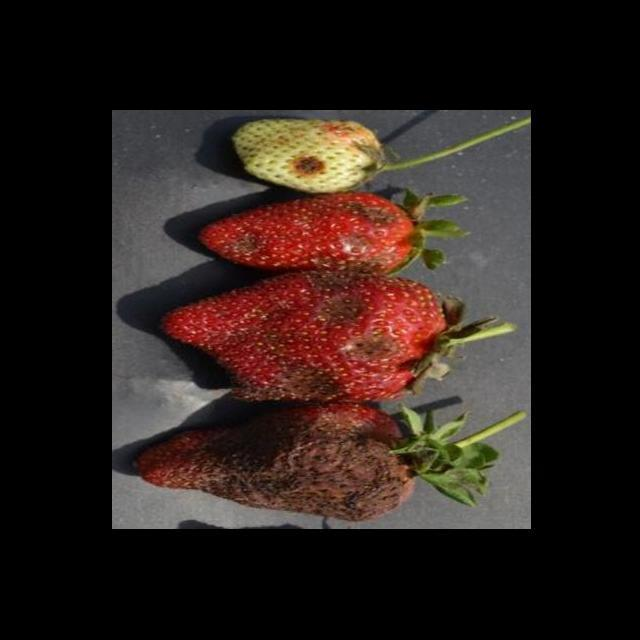Anthracnose Fruit Rot: (156, 404, 408, 524), (223, 274, 404, 402), (228, 200, 399, 277), (287, 154, 326, 180)
